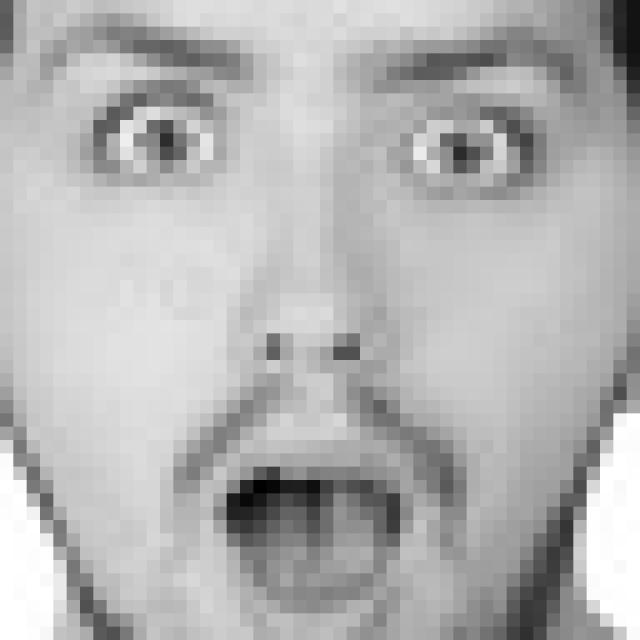surprise: (29, 15, 594, 640)
